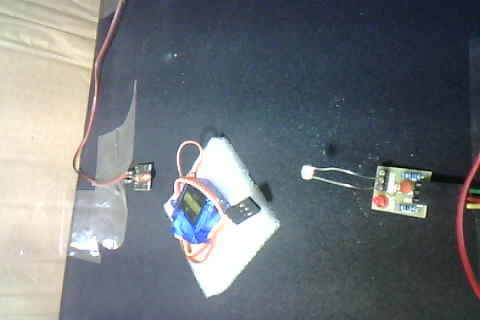motor: (156, 137, 265, 285)
